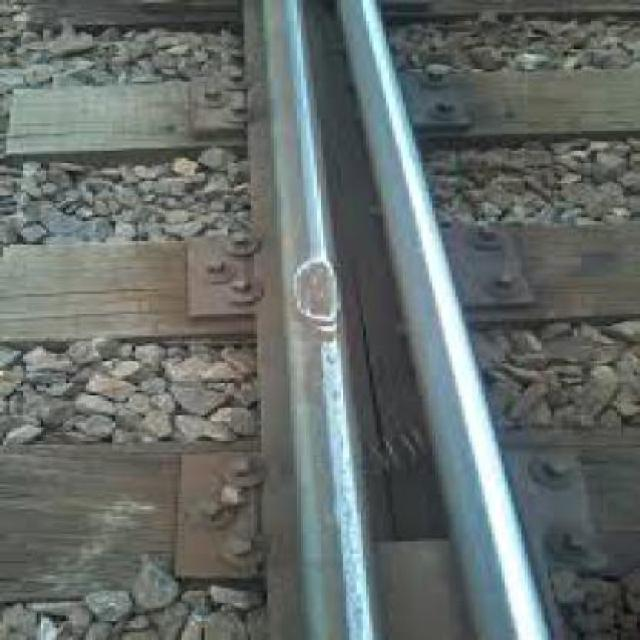defective: (272, 195, 384, 487)
